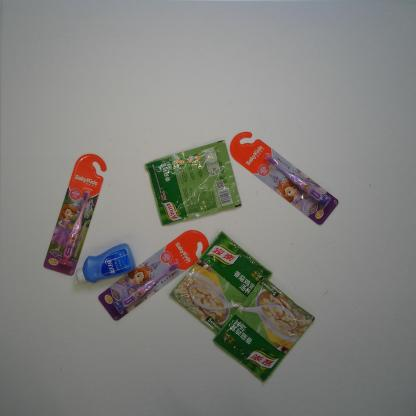Personal Hygiene: (97, 228, 210, 322), (228, 131, 338, 226), (43, 152, 107, 276), (75, 242, 136, 284)
Seasoner: (212, 276, 316, 383), (170, 230, 274, 336), (144, 138, 243, 244)
